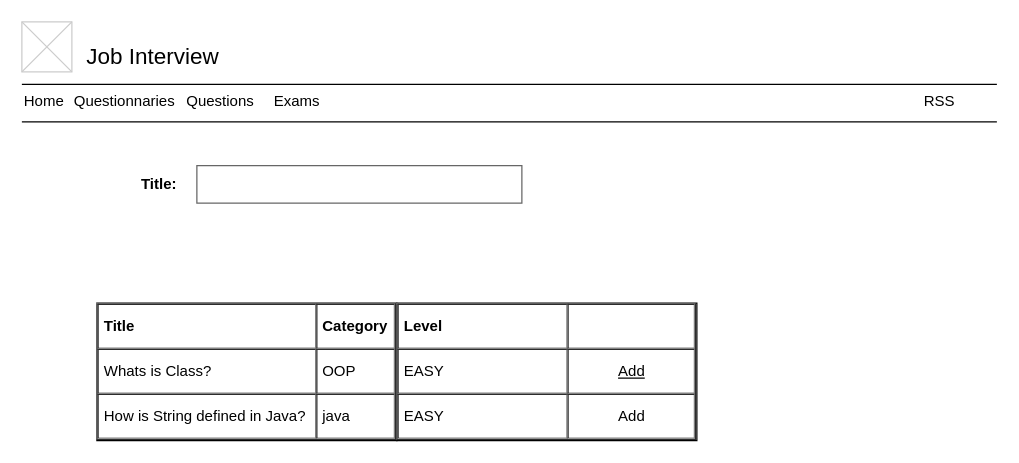
Some shapes in this 1019 by 463 pixel diagram are drawn without their labels. The shapes that lost their labels are listed below. From the top down, each one's box as (x1, y1, x2, y2) in pixels, then its label:
(21, 21, 72, 72): Blog Logo
(196, 164, 522, 203): Junior Software Developer Test
